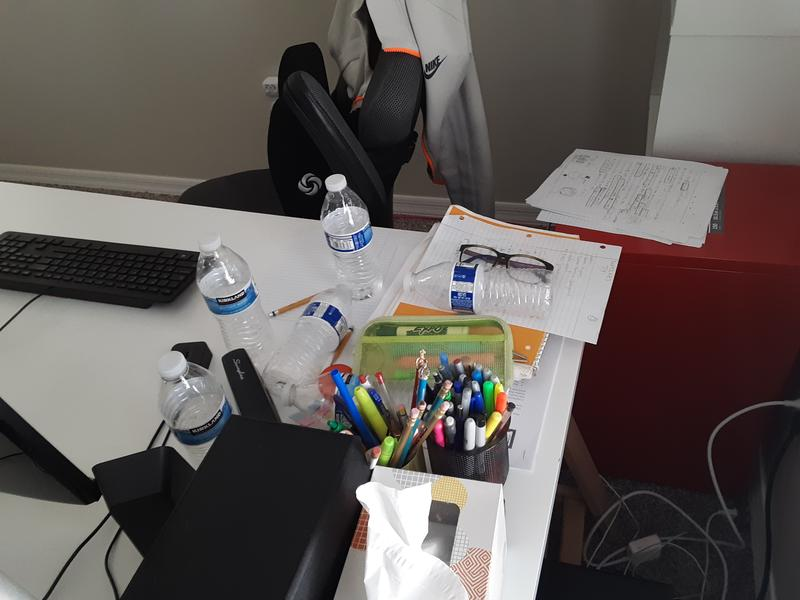glasses: (455, 243, 556, 287)
